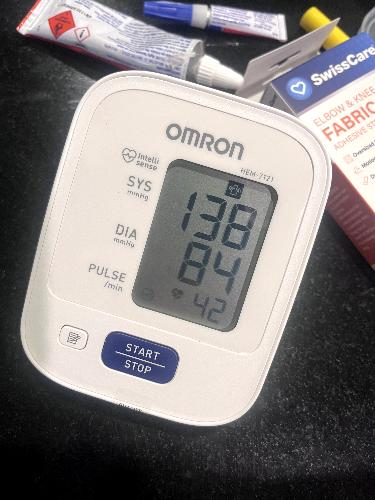bpm: (126, 158, 277, 335)
